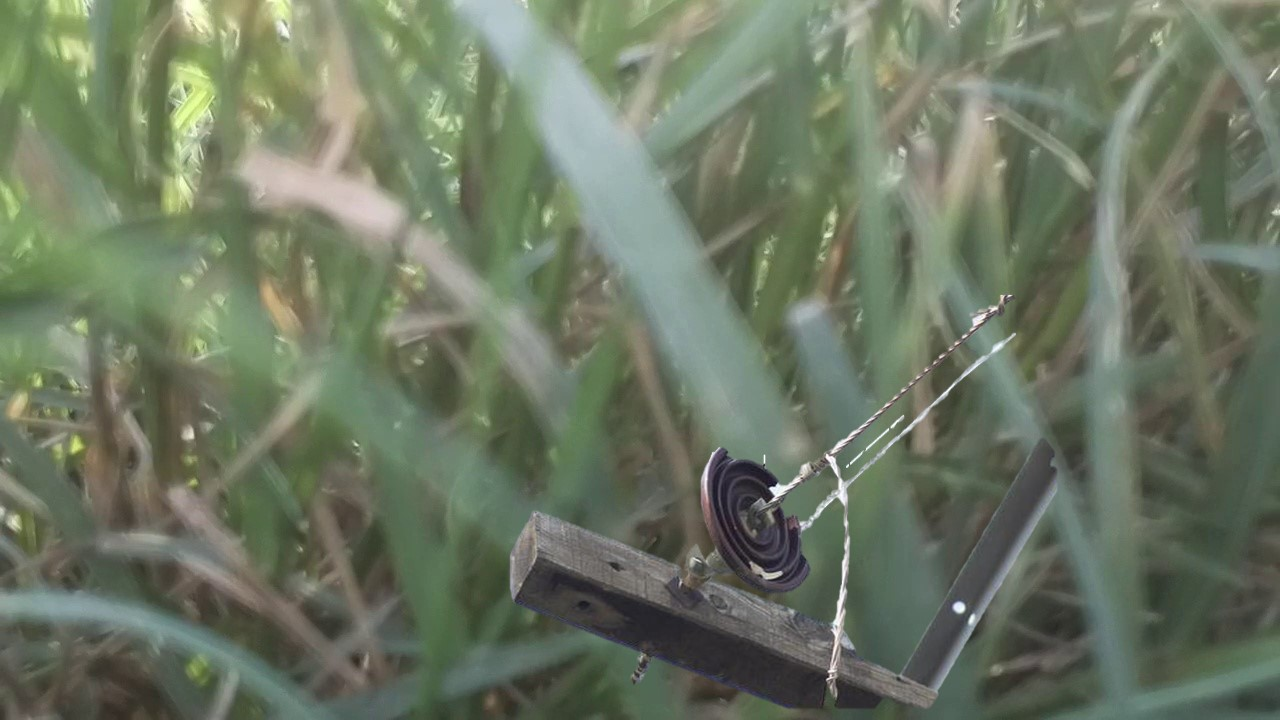defect_disc: (690, 438, 814, 602)
